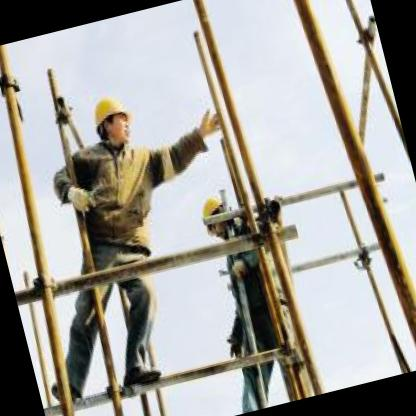helmet: (83, 81, 140, 158), (192, 184, 244, 247)
